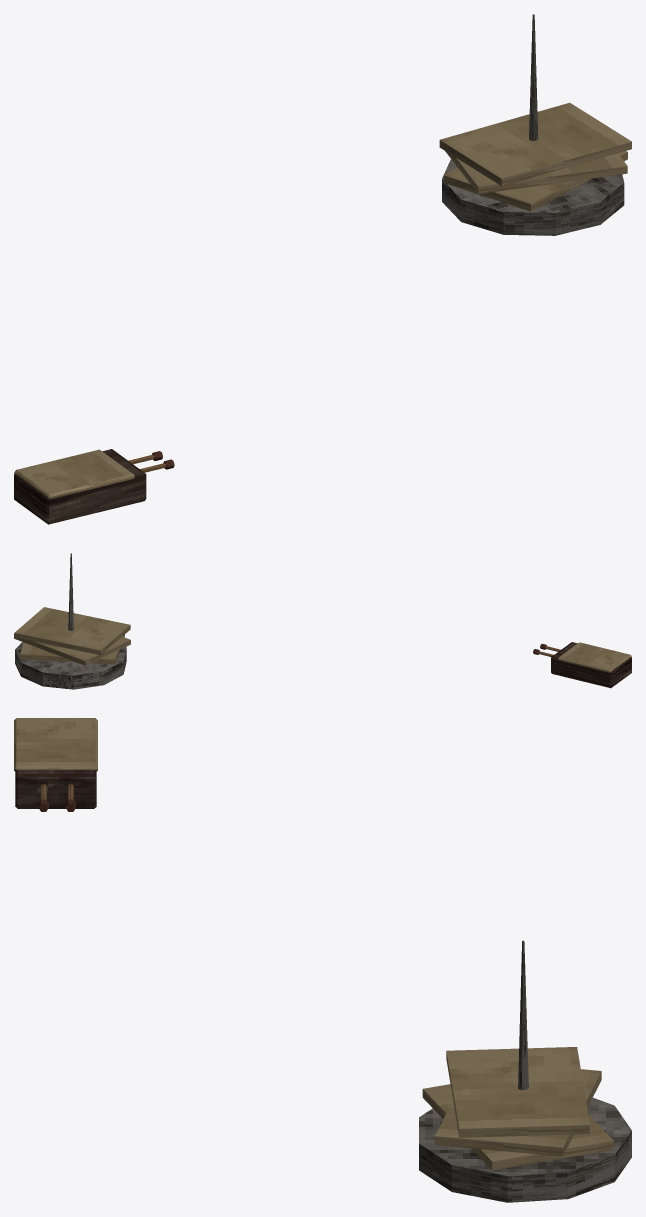
File: desk_details_static.glb
3 renders of one model, top to bottom at view 1: azimuth 30°, elevation 25°; view 2: azimuth 150°, elevation 25°; view 3: azimuth 270°, elevation 25°, orthographic. The views are drawn at different scales.
Parts seen in each view (by area): view 1: desk_details_static; view 2: desk_details_static; view 3: desk_details_static.
Boxes of the visible parts, bbox=[...] form: desk_details_static: bbox=[14, 14, 631, 524]; desk_details_static: bbox=[14, 553, 631, 689]; desk_details_static: bbox=[14, 718, 631, 1202].
Size of the model in its own units: 0.4312 by 0.0965 by 0.25.
5 materials, 5 textured.
